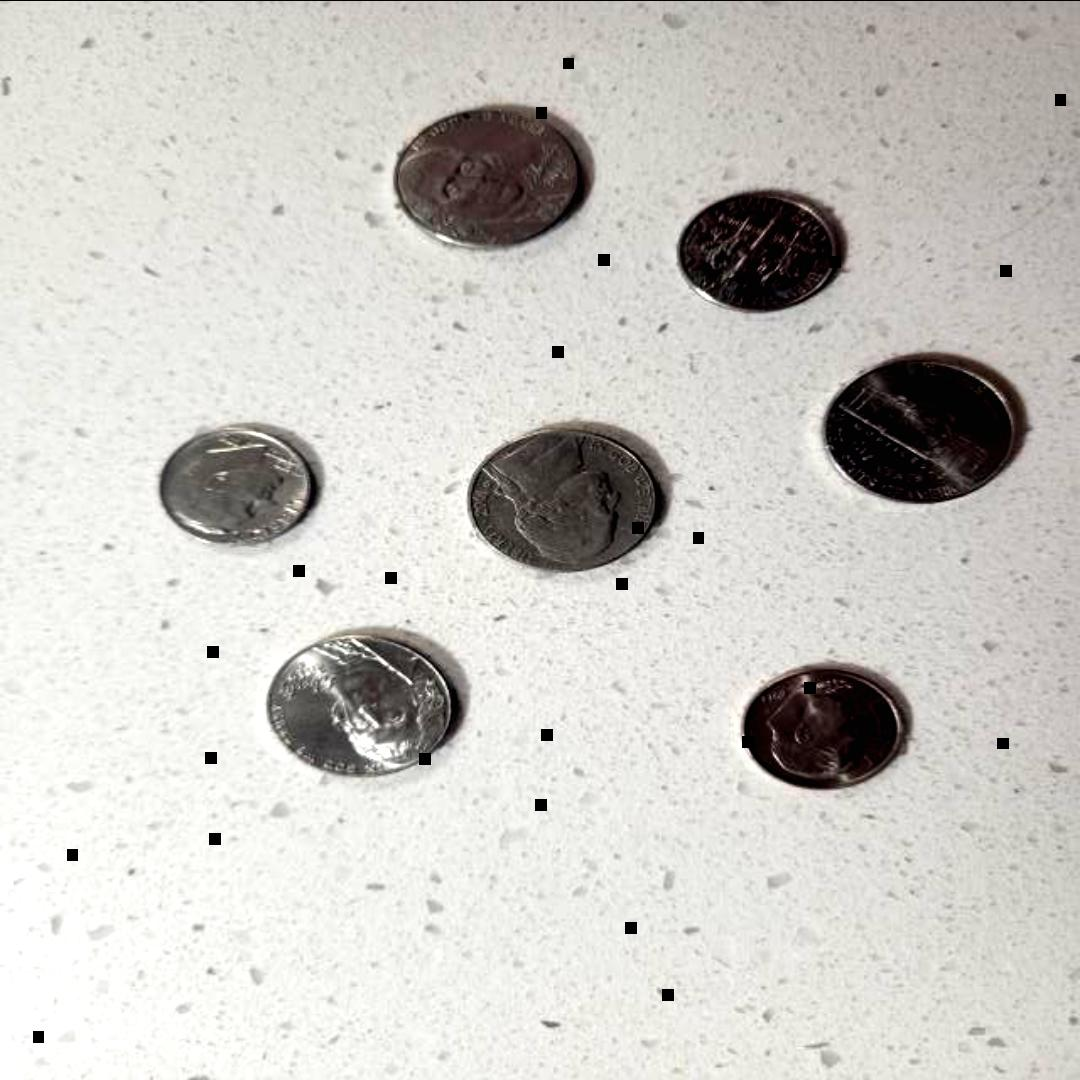Dime: (735, 659, 915, 799), (670, 186, 850, 316), (154, 420, 318, 552)
Nickel: (455, 419, 671, 581), (814, 352, 1024, 508), (392, 101, 592, 251), (262, 630, 458, 780)
